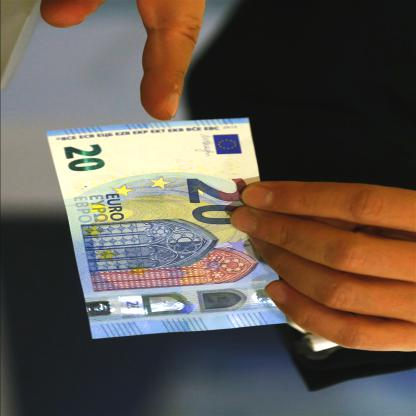euro_banknote: (50, 127, 291, 326)
